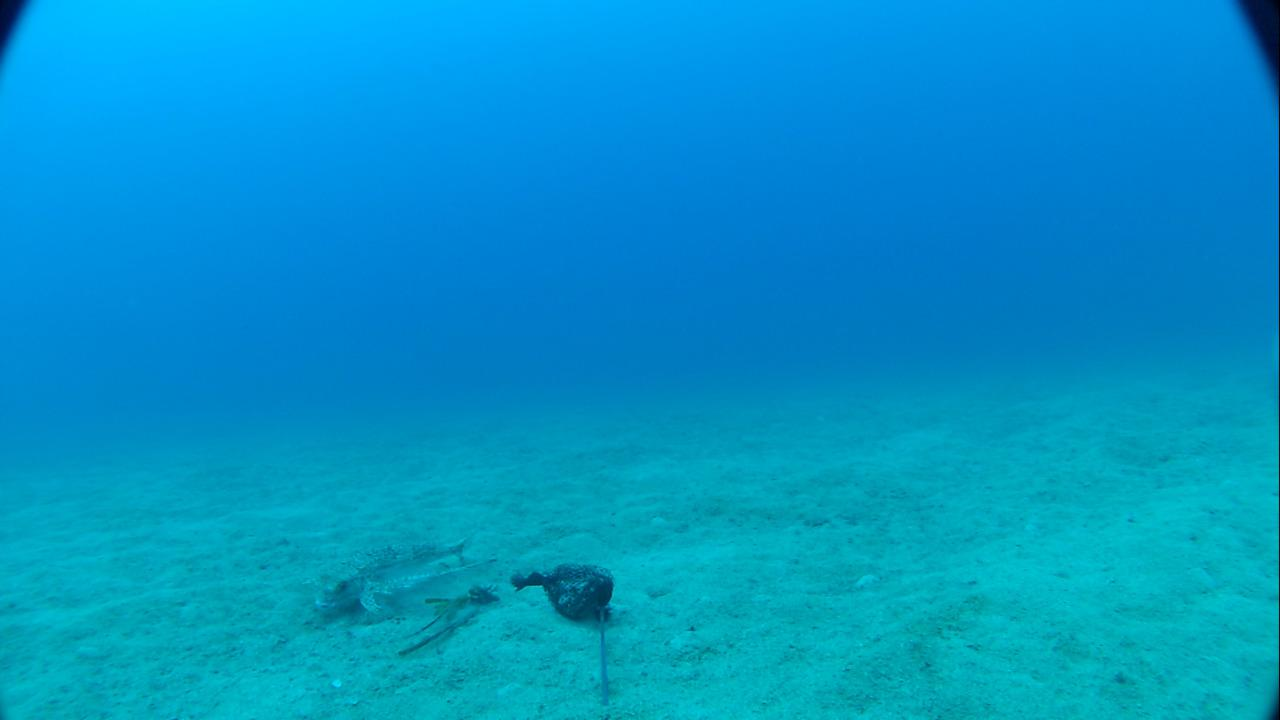dactylopterus: (292, 526, 490, 628)
